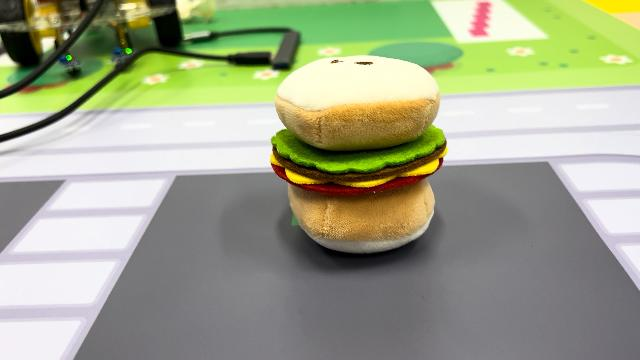sandwich: (268, 52, 450, 255)
